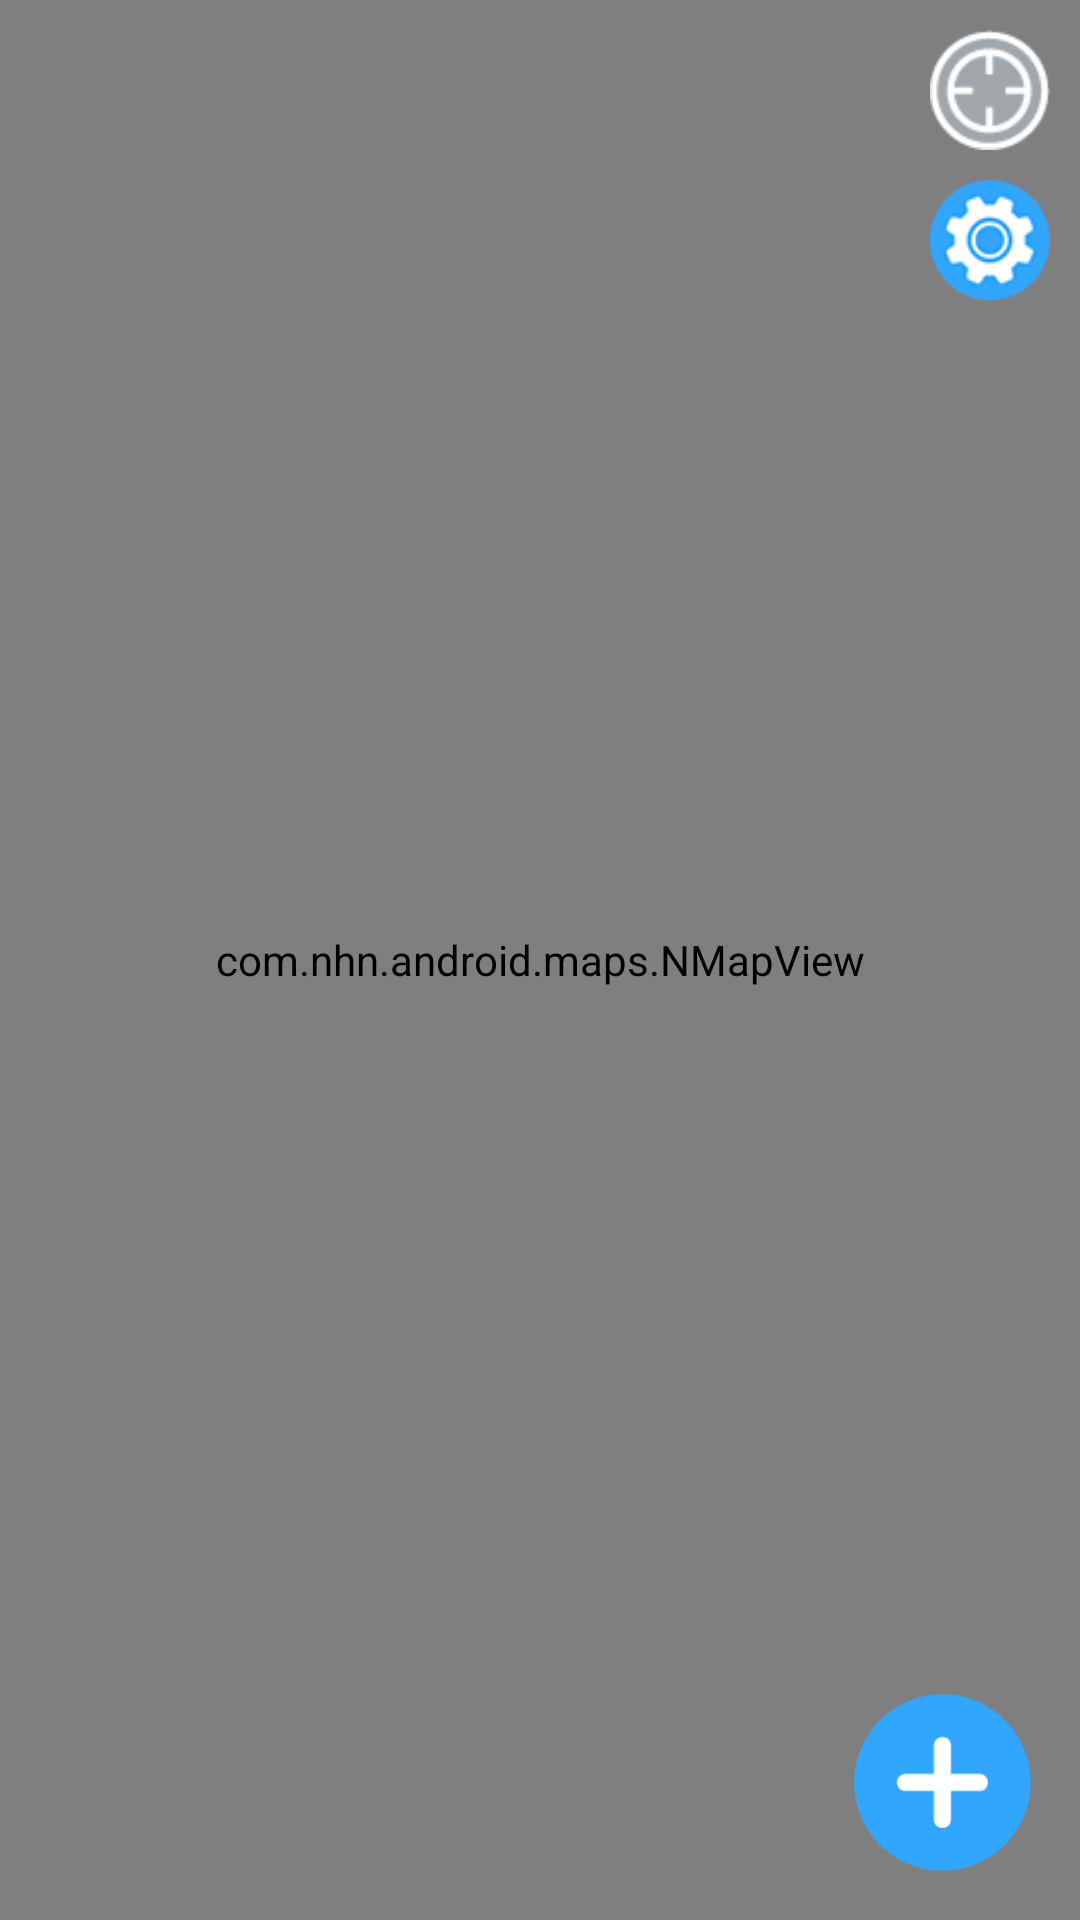

Icon bounding boxes for this 1080 × 1920 phone screenshot, format (x1=x1, y1=y1, x2=x2, y2=y2):
navermap location off: (x1=930, y1=30, x2=1050, y2=150)
